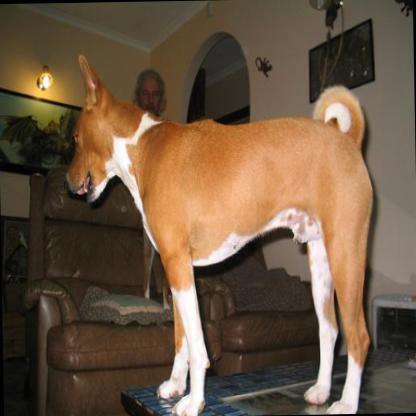basenji: (61, 45, 378, 416)
